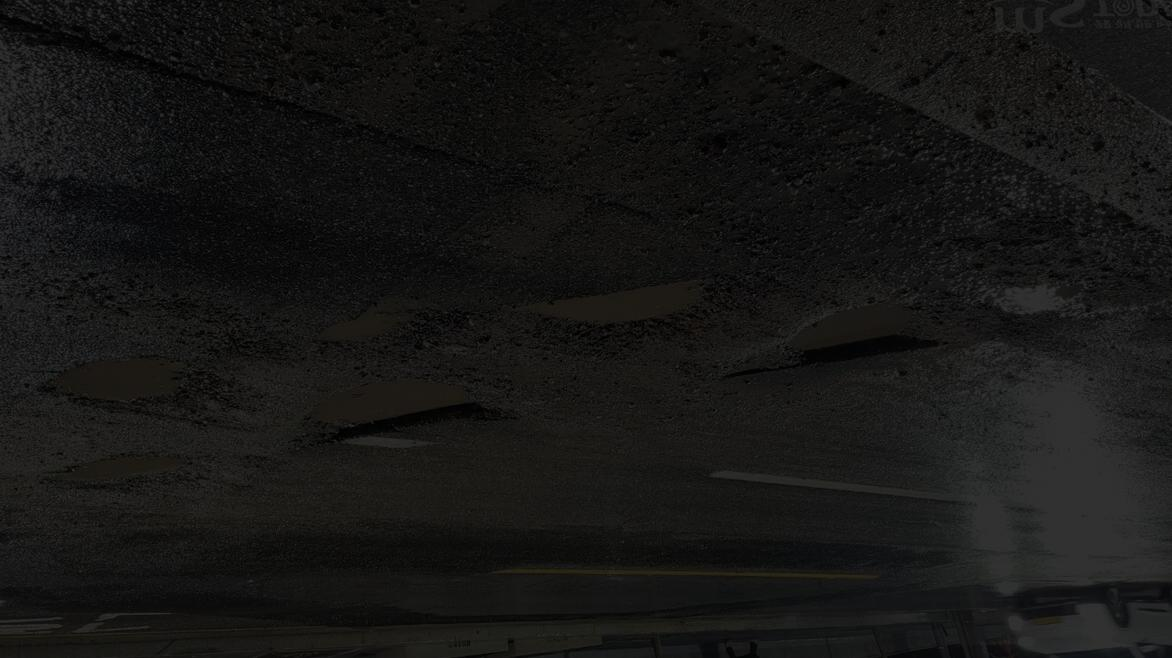pothole: (761, 275, 1023, 396), (500, 260, 731, 353), (309, 372, 487, 466), (26, 351, 219, 418), (46, 444, 211, 516), (300, 280, 428, 359)
